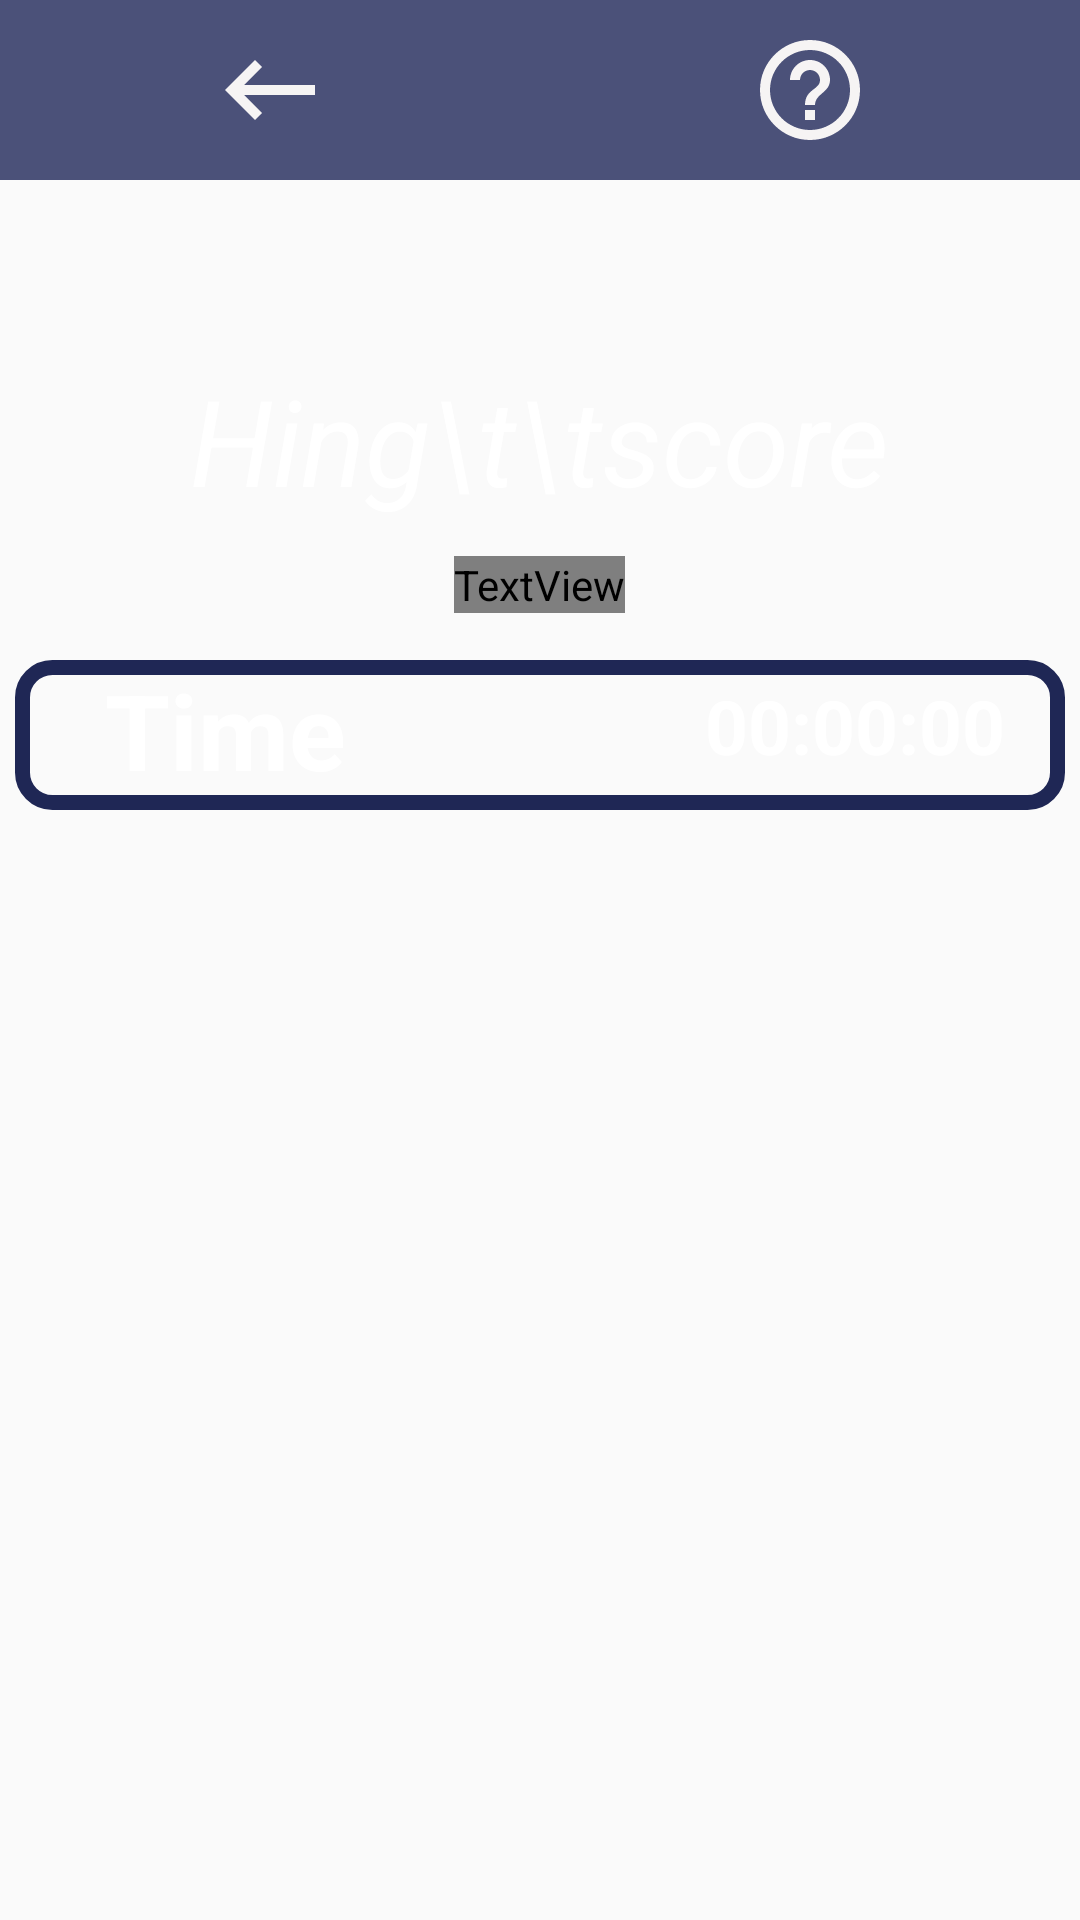

Point at icon controls on the screen. Image size 1080×1920, points as (x=x, y=y).
help: (x=810, y=90)
keyboard backspace: (x=270, y=90)
